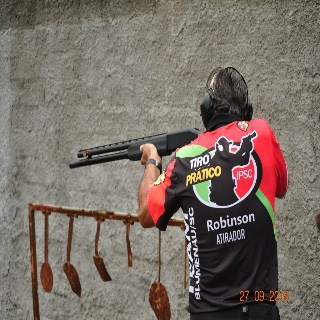shotgun: (69, 126, 203, 170)
